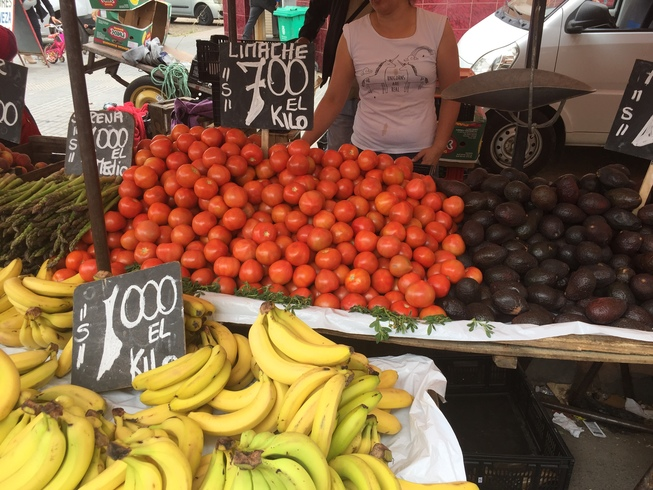precio: (66, 257, 198, 408), (210, 37, 320, 139), (54, 104, 141, 182)
